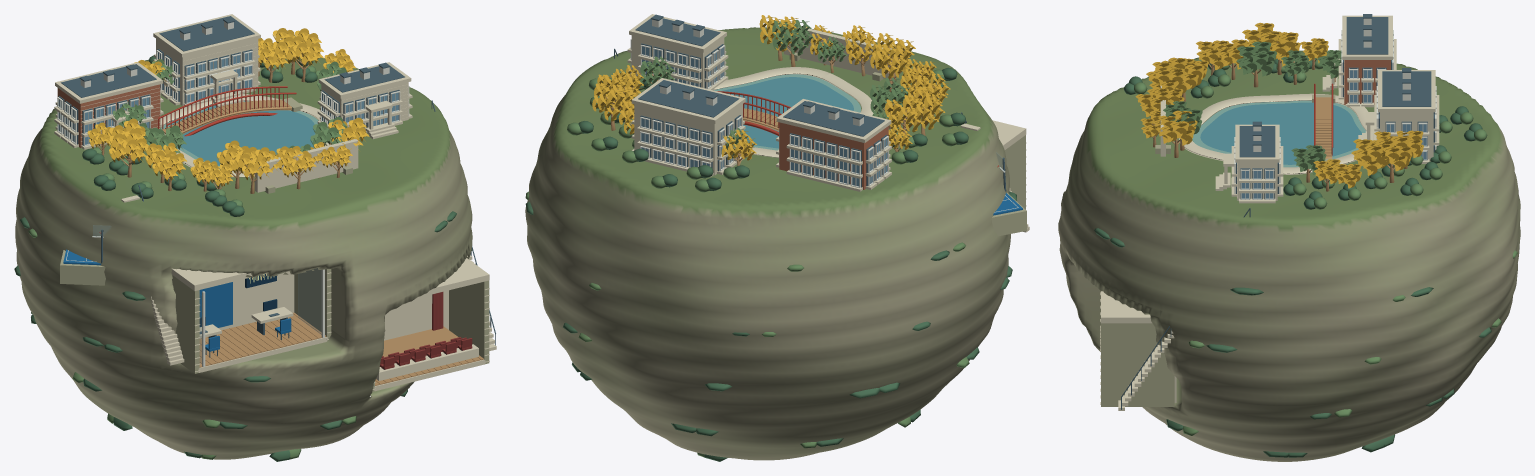
File: university-refined-v1-low.glb
The picture shows the model from 3 angles, left to right: view 1: azimuth 30°, elevation 25°; view 2: azimuth 150°, elevation 25°; view 3: azimuth 270°, elevation 25°; orthographic projection. The views are drawn at different scales.
Parts seen in each view (by area): view 1: campus_stratified_terrain, campus_pale_stone, campus_ginkgo_gold, campus_limestone, campus_wood, campus_metal, campus_window_frame, campus_groundcover, campus_lake, campus_foliage, campus_glass, campus_blue (+4 smaller); view 2: campus_stratified_terrain, campus_pale_stone, campus_ginkgo_gold, campus_metal, campus_foliage, campus_window_frame, campus_groundcover, campus_glass, campus_lake, campus_limestone, campus_brick, campus_wood (+2 smaller); view 3: campus_stratified_terrain, campus_pale_stone, campus_ginkgo_gold, campus_foliage, campus_metal, campus_limestone, campus_lake, campus_groundcover, campus_window_frame, campus_wood, campus_glass, campus_shallow_water (+1 smaller).
Boxes of the visible parts, left/top/right/bottom form: campus_stratified_terrain: left=15, top=57, right=472, bottom=459; campus_pale_stone: left=54, top=14, right=496, bottom=391; campus_ginkgo_gold: left=87, top=28, right=369, bottom=187; campus_limestone: left=60, top=97, right=489, bottom=391; campus_wood: left=94, top=38, right=483, bottom=385; campus_metal: left=58, top=16, right=495, bottom=369; campus_window_frame: left=57, top=21, right=409, bottom=366; campus_groundcover: left=14, top=55, right=456, bottom=461; campus_lake: left=169, top=106, right=315, bottom=165; campus_foliage: left=28, top=59, right=472, bottom=459; campus_glass: left=58, top=52, right=398, bottom=144; campus_blue: left=63, top=249, right=291, bottom=351; campus_stratified_terrain: left=525, top=27, right=1010, bottom=460; campus_pale_stone: left=627, top=14, right=1029, bottom=232; campus_ginkgo_gold: left=592, top=15, right=950, bottom=160; campus_metal: left=614, top=14, right=1006, bottom=191; campus_foliage: left=525, top=20, right=969, bottom=457; campus_window_frame: left=630, top=18, right=1018, bottom=212; campus_groundcover: left=525, top=67, right=1016, bottom=461; campus_glass: left=641, top=46, right=887, bottom=186; campus_lake: left=721, top=77, right=853, bottom=148; campus_limestone: left=789, top=52, right=1026, bottom=236; campus_brick: left=779, top=122, right=888, bottom=189; campus_wood: left=604, top=29, right=939, bottom=165; campus_stratified_terrain: left=1058, top=50, right=1520, bottom=461; campus_pale_stone: left=1100, top=15, right=1439, bottom=410; campus_ginkgo_gold: left=1135, top=22, right=1423, bottom=188; campus_foliage: left=1134, top=41, right=1517, bottom=435; campus_metal: left=1121, top=14, right=1434, bottom=409; campus_limestone: left=1101, top=94, right=1335, bottom=406; campus_lake: left=1200, top=102, right=1361, bottom=164; campus_groundcover: left=1094, top=59, right=1491, bottom=457; campus_window_frame: left=1234, top=18, right=1436, bottom=199; campus_wood: left=1150, top=38, right=1407, bottom=191; campus_glass: left=1241, top=60, right=1426, bottom=198; campus_shallow_water: left=1192, top=100, right=1365, bottom=167.
Size of the model in its own units: 19.45 by 16.65 by 18.88.
